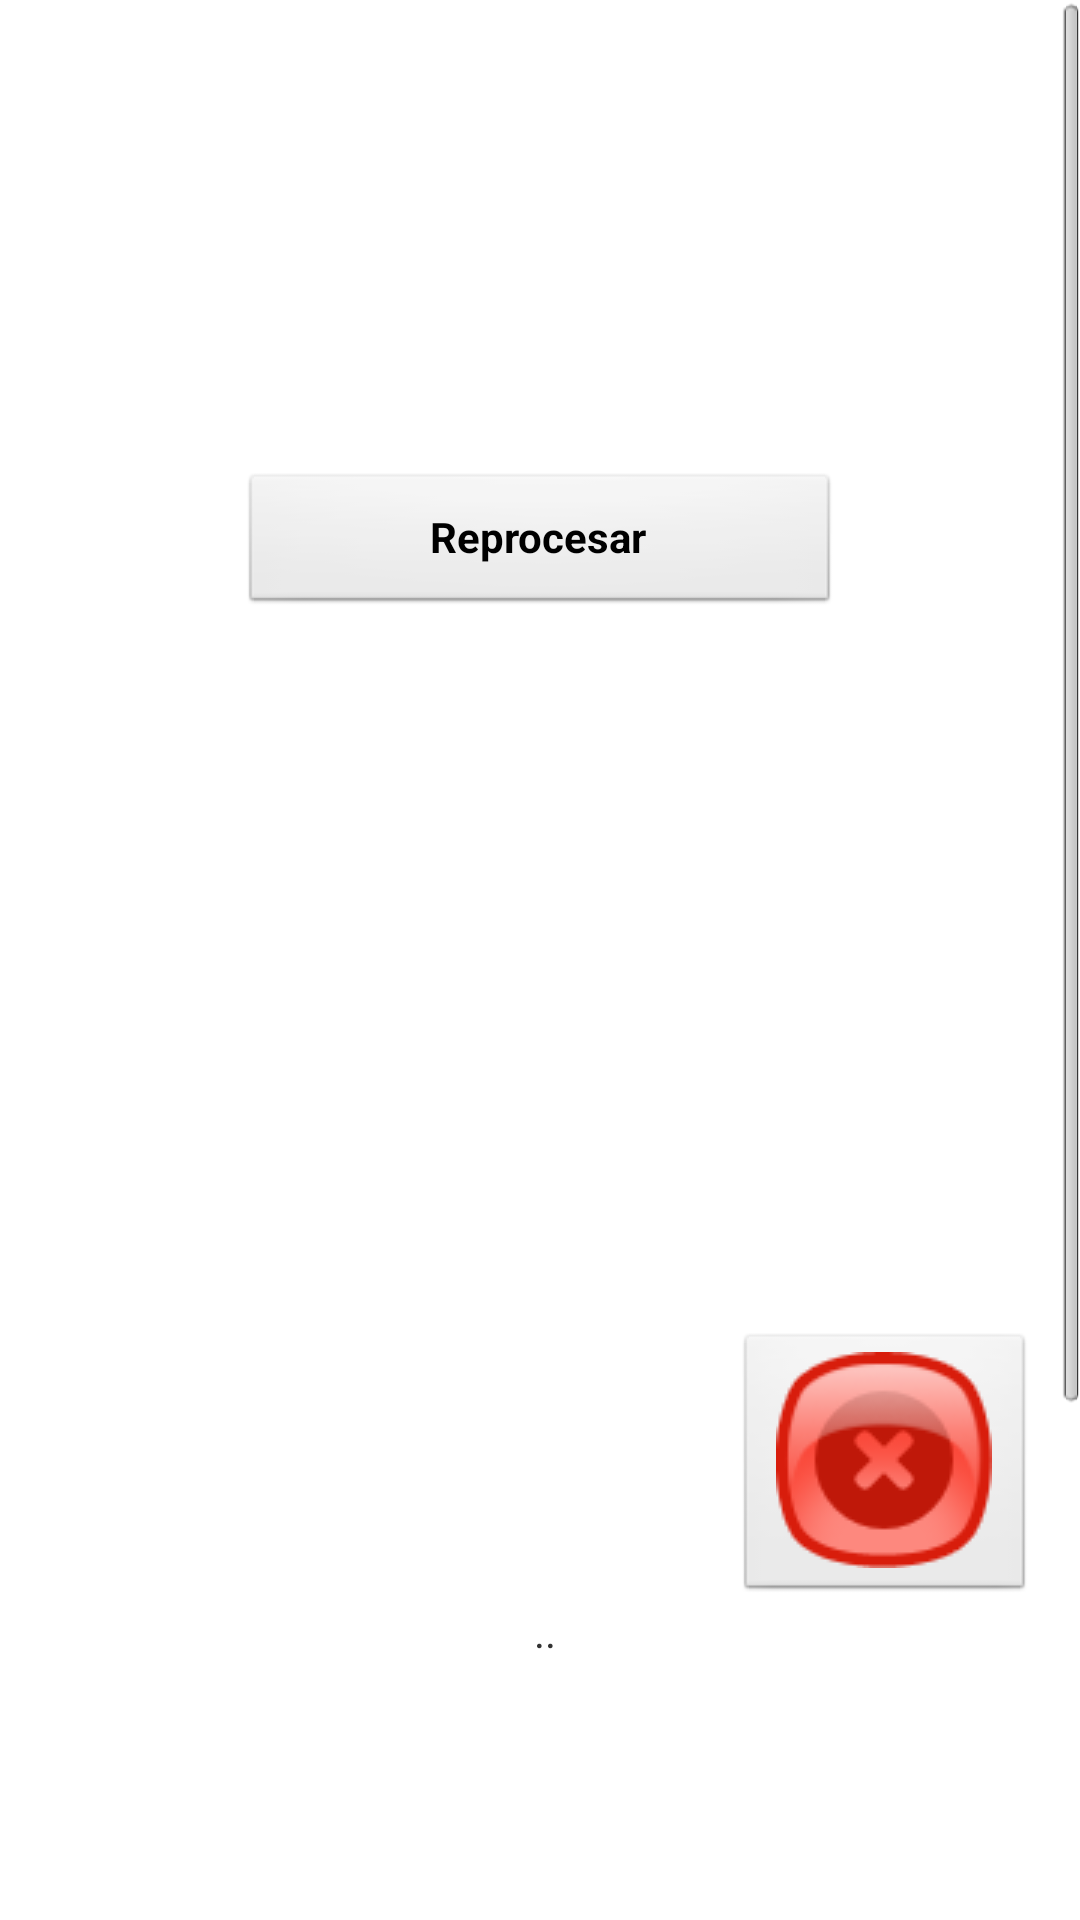

Named icons in this screenshot (1080*1920) and their bounding boxes, (x1, y1, x2, y2):
salir: (744, 1339, 1025, 1589)
